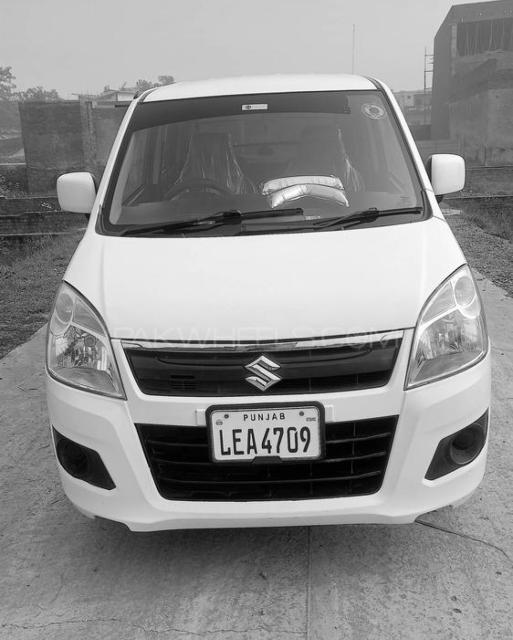Number: (219, 424, 315, 458)
